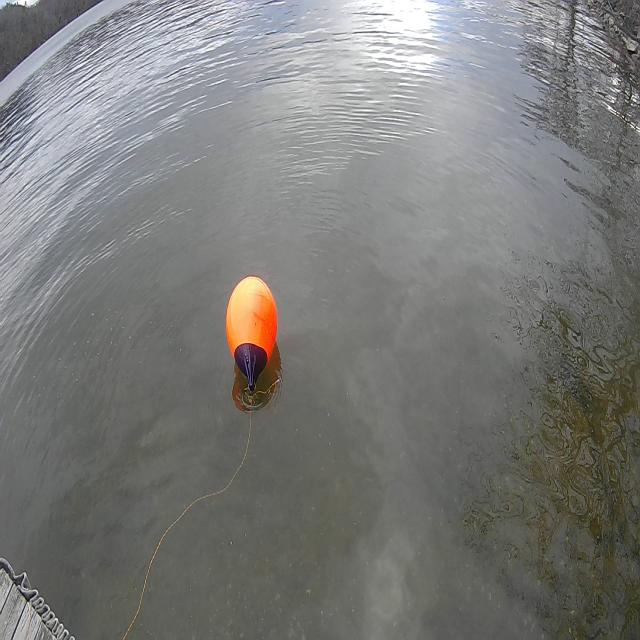Buoy: (222, 263, 282, 404)
